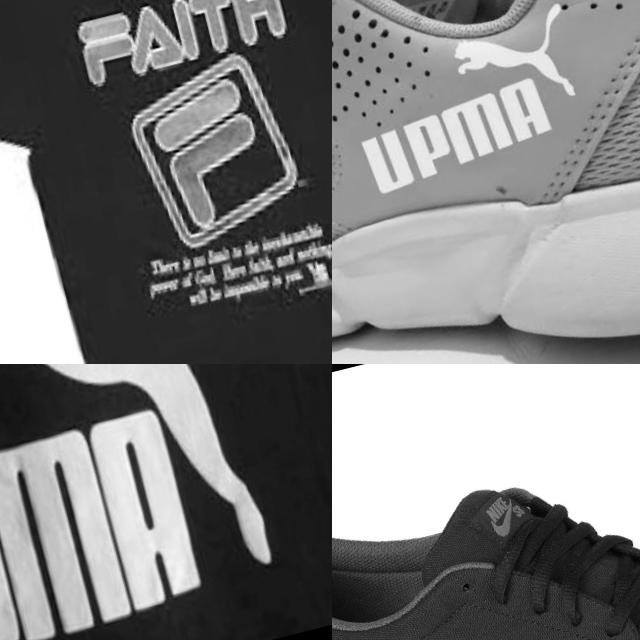FILA_fake: (51, 0, 332, 274)
NIKE_original: (332, 589, 541, 640)
PUMA_fake: (0, 364, 332, 640), (338, 43, 640, 226)
